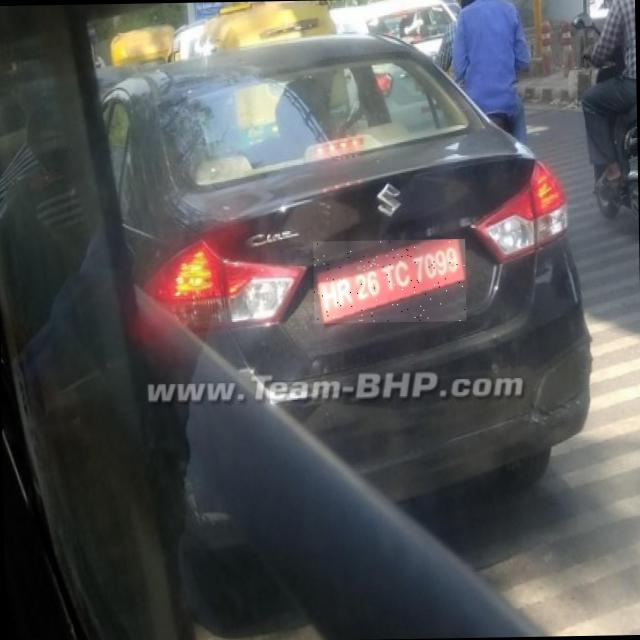Plate: (314, 240, 467, 325)
